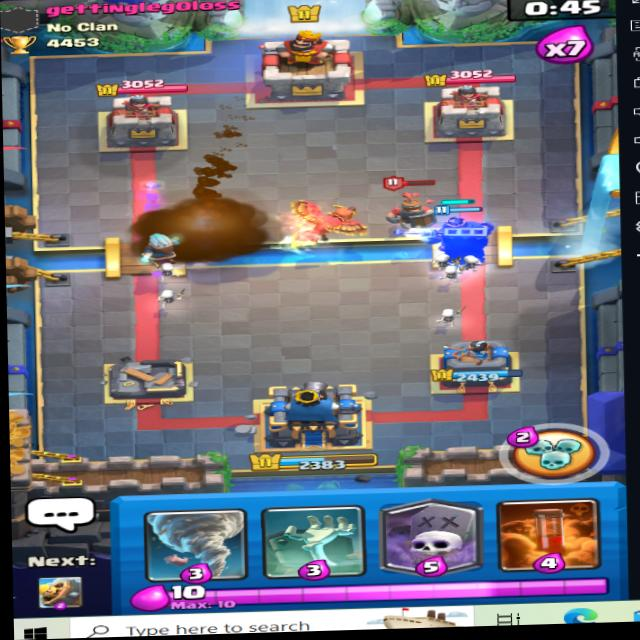royal-recruits: (375, 171, 449, 232)
